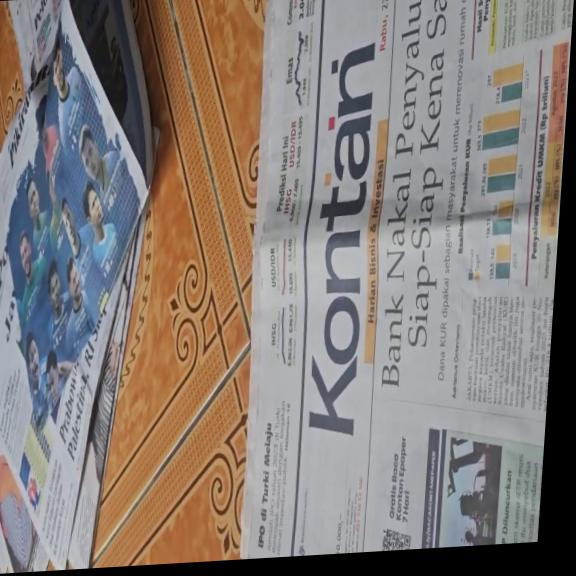Kertas: (241, 0, 573, 556), (0, 0, 130, 568)
